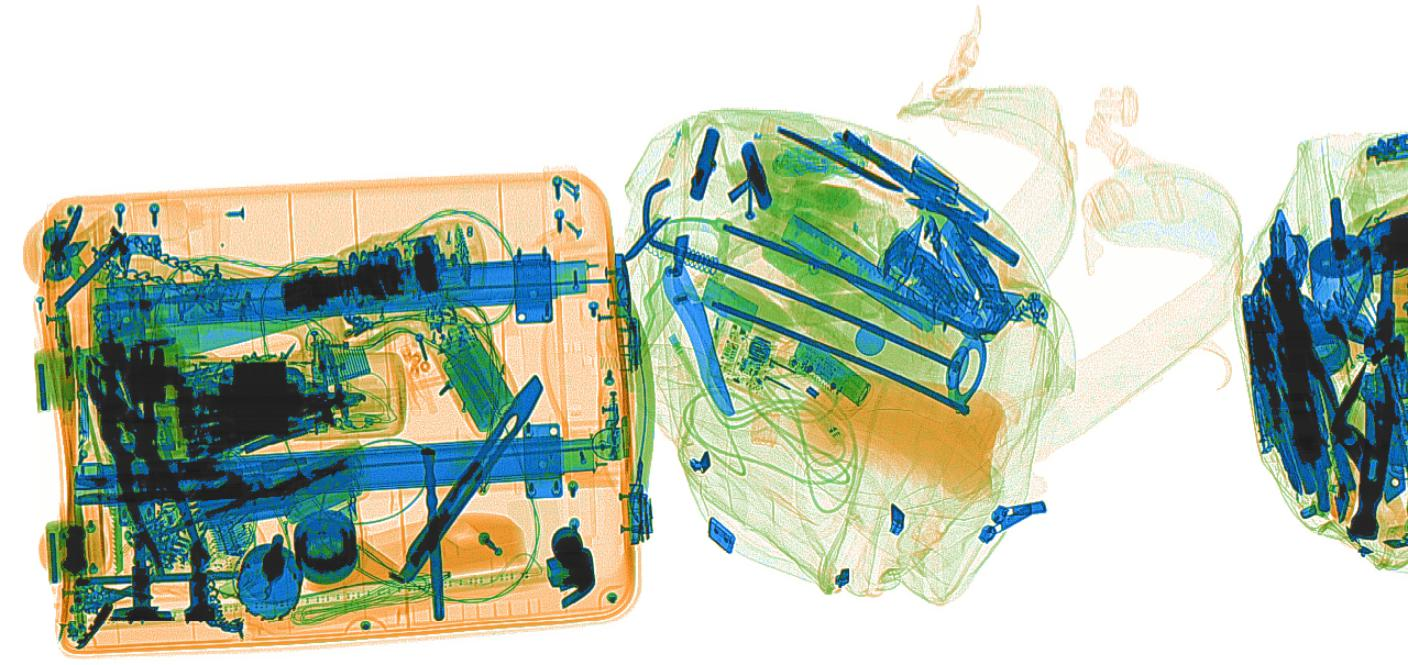battery: (435, 333, 519, 427), (274, 451, 367, 525), (791, 332, 872, 405)
knife: (390, 373, 545, 577), (777, 212, 946, 335)
